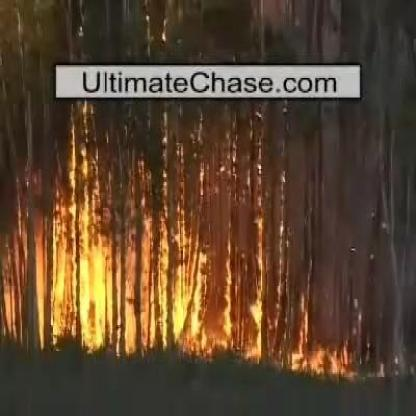foggia-v2-map80-epoch100 - v1 4323: (80, 242, 112, 341), (174, 270, 202, 343)
